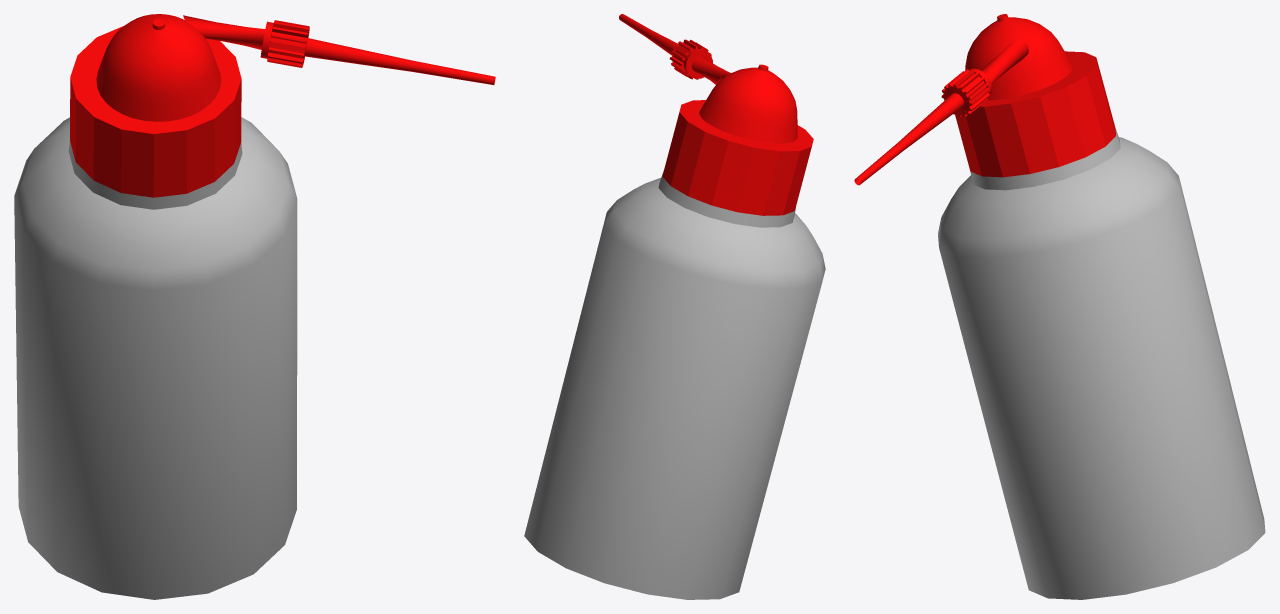
3 renders of one model, left to right at view 1: azimuth 30°, elevation 25°; view 2: azimuth 150°, elevation 25°; view 3: azimuth 270°, elevation 25°, orthographic. The views are drawn at different scales.
Parts seen in each view (by area): view 1: Line005, 对象001, Line002, Line004; view 2: Line005, 对象001, Line002, Line004; view 3: Line005, 对象001, Line002, Line004.
Part boxes in pixels (box(x1,y1,x2,y2)): Line005: box(14, 117, 297, 599); 对象001: box(70, 25, 241, 197); Line002: box(96, 14, 221, 121); Line004: box(183, 15, 495, 84); Line005: box(524, 170, 825, 599); 对象001: box(662, 100, 813, 215); Line002: box(699, 64, 797, 143); Line004: box(619, 14, 730, 84); Line005: box(938, 128, 1265, 599); 对象001: box(955, 51, 1115, 177); Line002: box(965, 14, 1072, 100); Line004: box(854, 39, 1028, 185).
Size of the model in its own units: 449 by 739 by 513.
